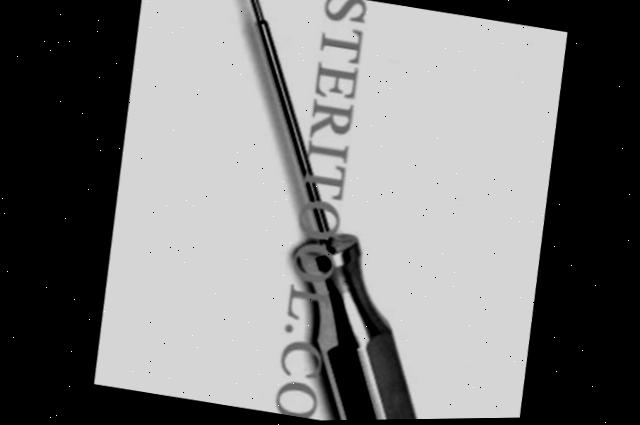ice pick: (151, 0, 519, 423)
